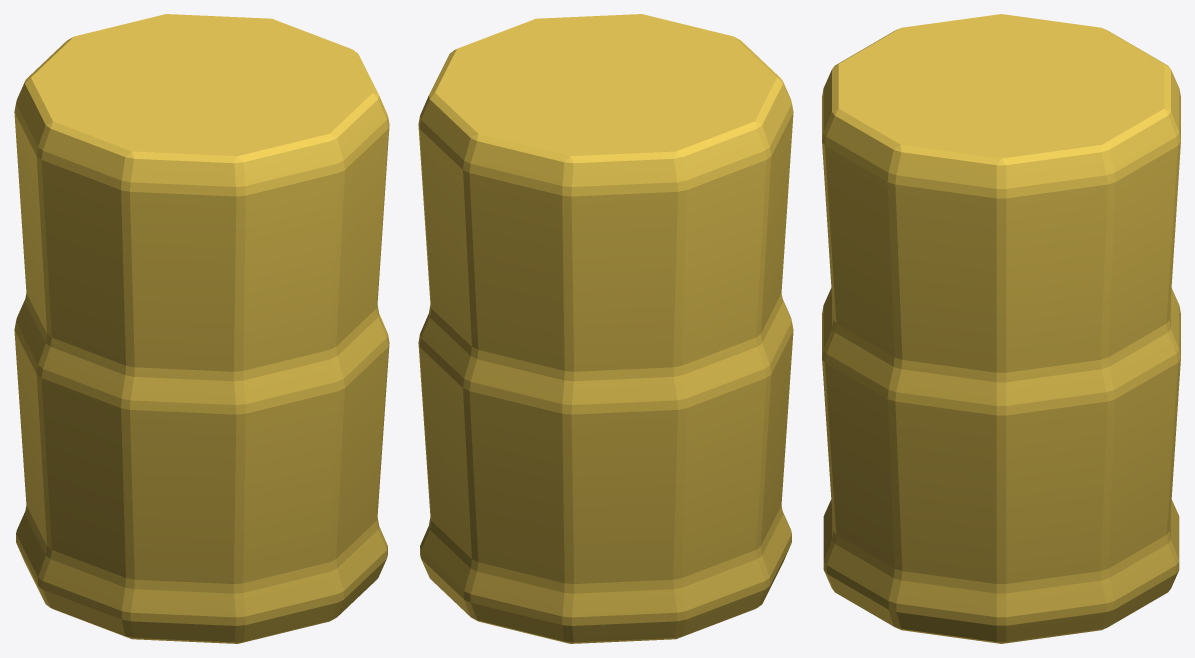
Rendered from drum.glb.
3 renders of one model, left to right at view 1: azimuth 30°, elevation 25°; view 2: azimuth 150°, elevation 25°; view 3: azimuth 270°, elevation 25°, orthographic.
Visible parts, largest first — view 1: drum; view 2: drum; view 3: drum.
Part boxes in pixels (x1,y1,x2,y2): drum: (14,14,389,643); drum: (418,14,793,643); drum: (822,14,1180,643).
Size of the model in its own units: 0.5941 by 0.85 by 0.5697.
1 material, 1 textured.
